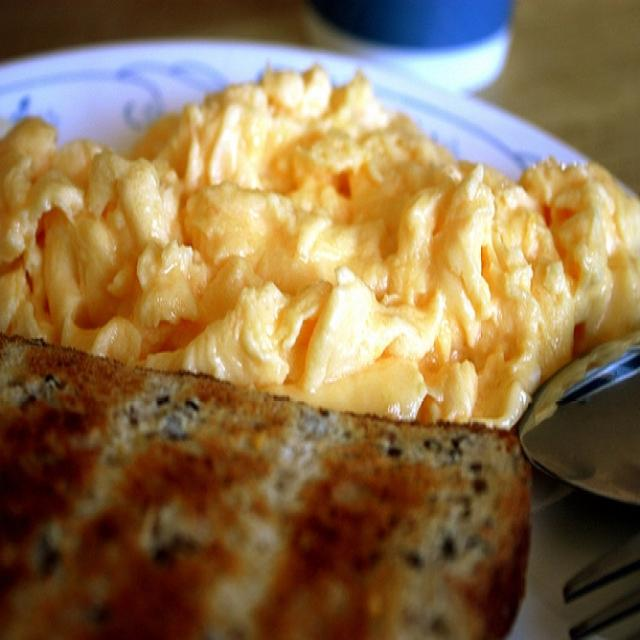鸡蛋料理: (13, 31, 610, 615)
